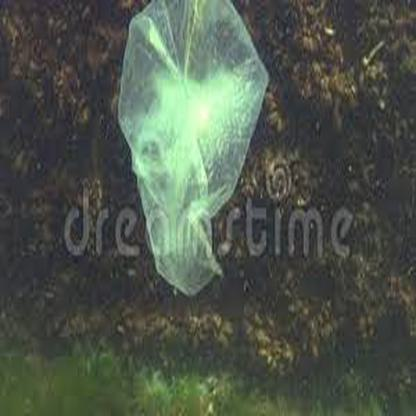plastic bag: (116, 2, 268, 296)
